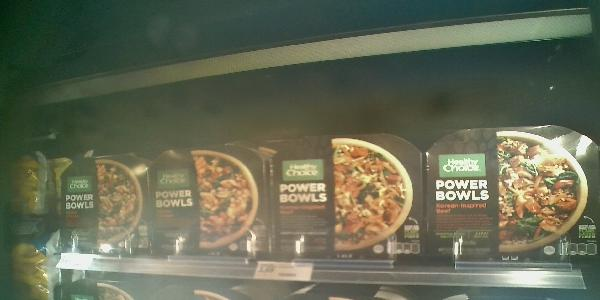pizza: (430, 137, 590, 259), (279, 142, 425, 258), (151, 147, 276, 257), (57, 155, 148, 253)
